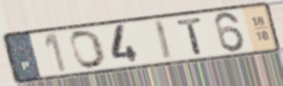1: (41, 32, 68, 76)
4: (109, 23, 144, 66)
6: (214, 11, 247, 54)
I: (152, 18, 175, 62)
O: (68, 28, 108, 70)
T: (175, 15, 205, 56)
